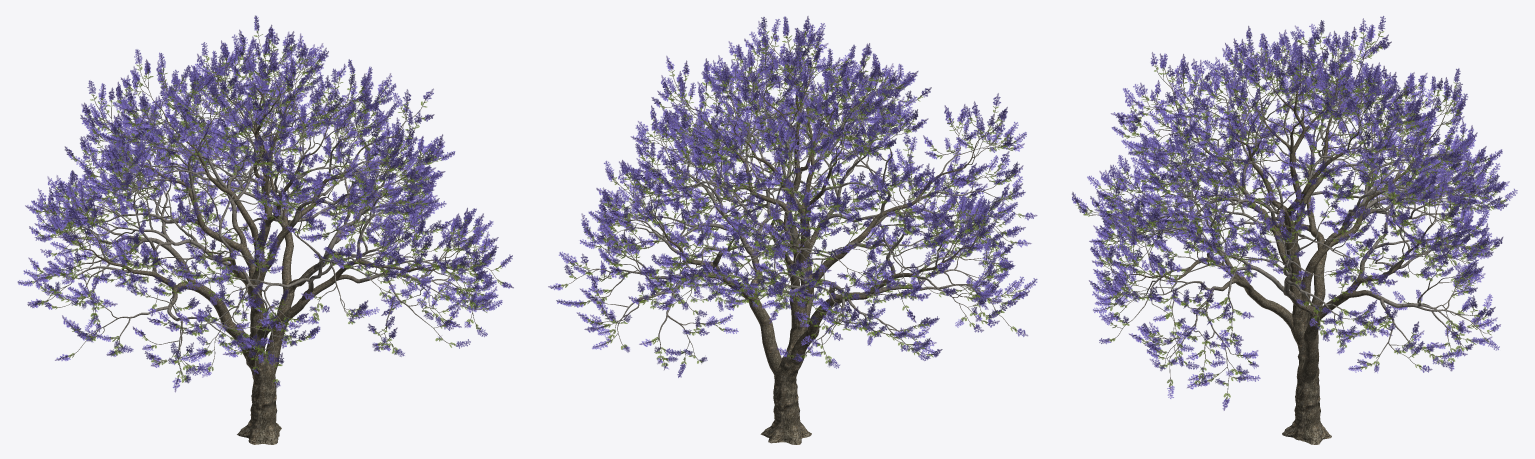
The model's file is blue_jacaranda.glb.
3 renders of one model, left to right at view 1: azimuth 30°, elevation 25°; view 2: azimuth 150°, elevation 25°; view 3: azimuth 270°, elevation 25°, orthographic.
Visible parts, largest first — view 1: Jacaranda_mimosifolia_HD, Jacaranda_mimosifolia_HD_Jacaranda leaf 04_0.001; view 2: Jacaranda_mimosifolia_HD, Jacaranda_mimosifolia_HD_Jacaranda leaf 04_0.001; view 3: Jacaranda_mimosifolia_HD, Jacaranda_mimosifolia_HD_Jacaranda leaf 04_0.001.
Boxes of the visible parts, x1,y1,x2,y2 form: Jacaranda_mimosifolia_HD: (17, 15, 513, 444); Jacaranda_mimosifolia_HD_Jacaranda leaf 04_0.001: (31, 50, 501, 383); Jacaranda_mimosifolia_HD: (548, 16, 1037, 444); Jacaranda_mimosifolia_HD_Jacaranda leaf 04_0.001: (607, 41, 1024, 364); Jacaranda_mimosifolia_HD: (1072, 16, 1517, 444); Jacaranda_mimosifolia_HD_Jacaranda leaf 04_0.001: (1083, 32, 1496, 399).
Bounding box in the file's own units: 2.68 × 2.49 × 2.56.
Materials: 10 (10 with a texture image).
